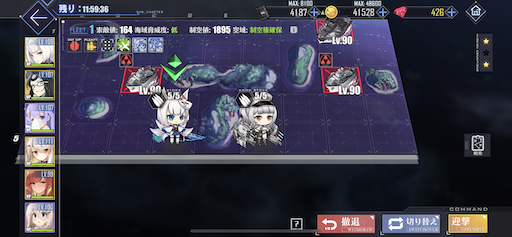lv3: (319, 52, 362, 94), (120, 53, 160, 94)
